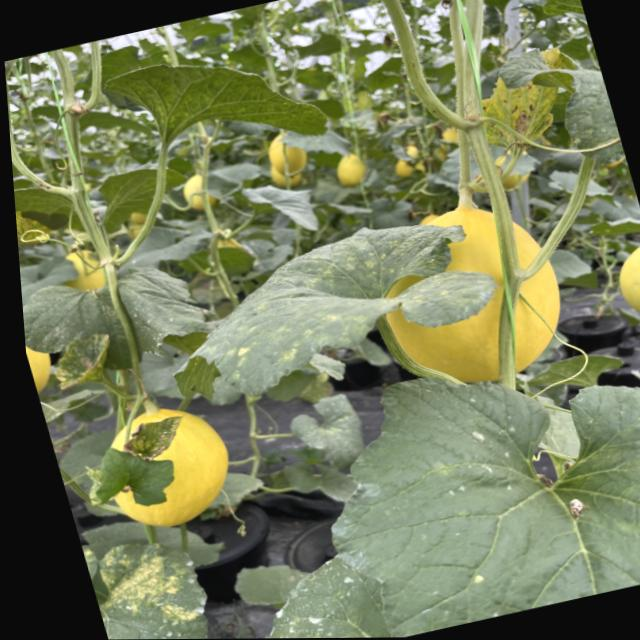CMV: (93, 31, 339, 183)
SLCV: (39, 327, 131, 394)
alternaria leaf blight: (119, 412, 198, 465)
downy mildew: (268, 316, 640, 638), (138, 201, 520, 411), (79, 519, 227, 640)
